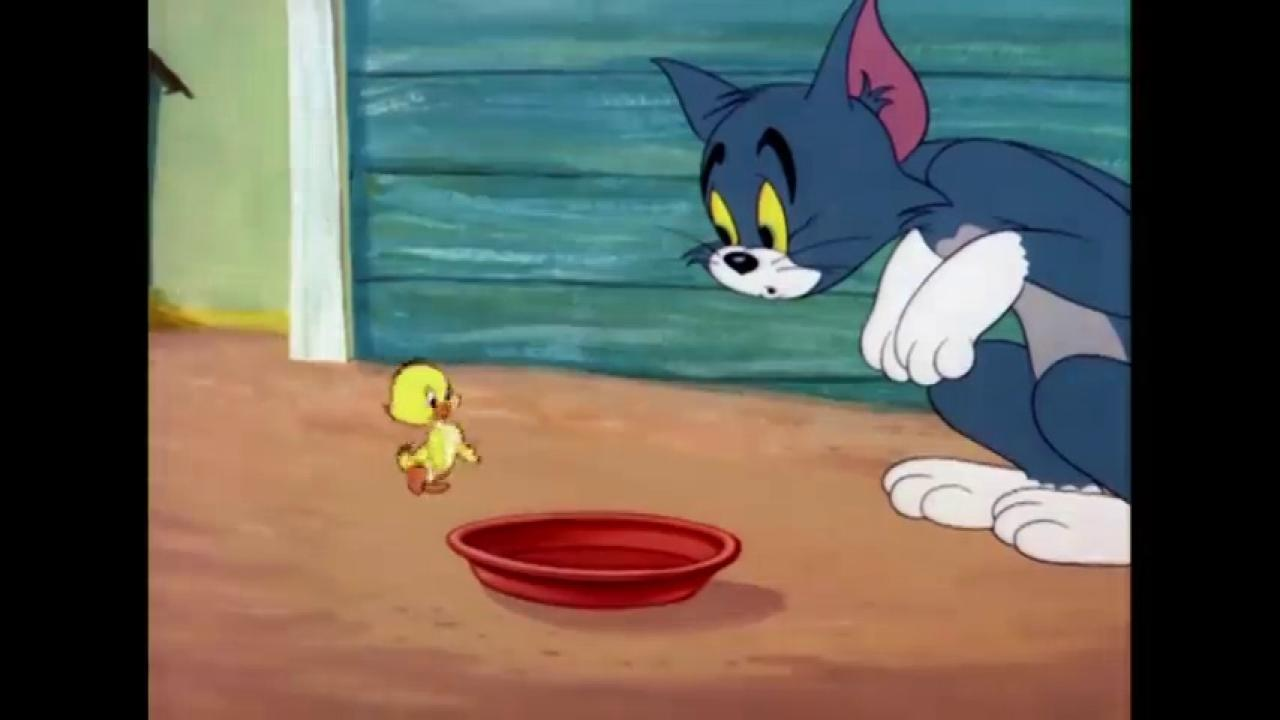Tom: (649, 0, 1129, 567)
